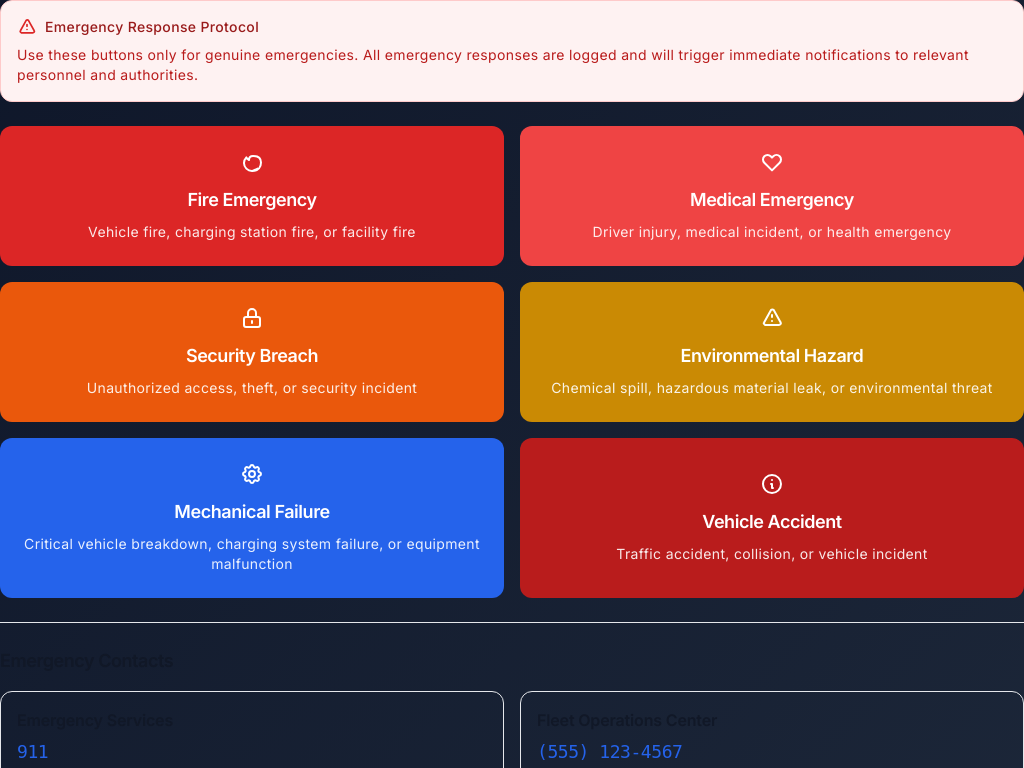
Test: EmergencyResponsePanel › opens confirmation modal when emergency button is clicked
Click the heading "Fire Emergency": (252, 200) [188, 189, 317, 210]
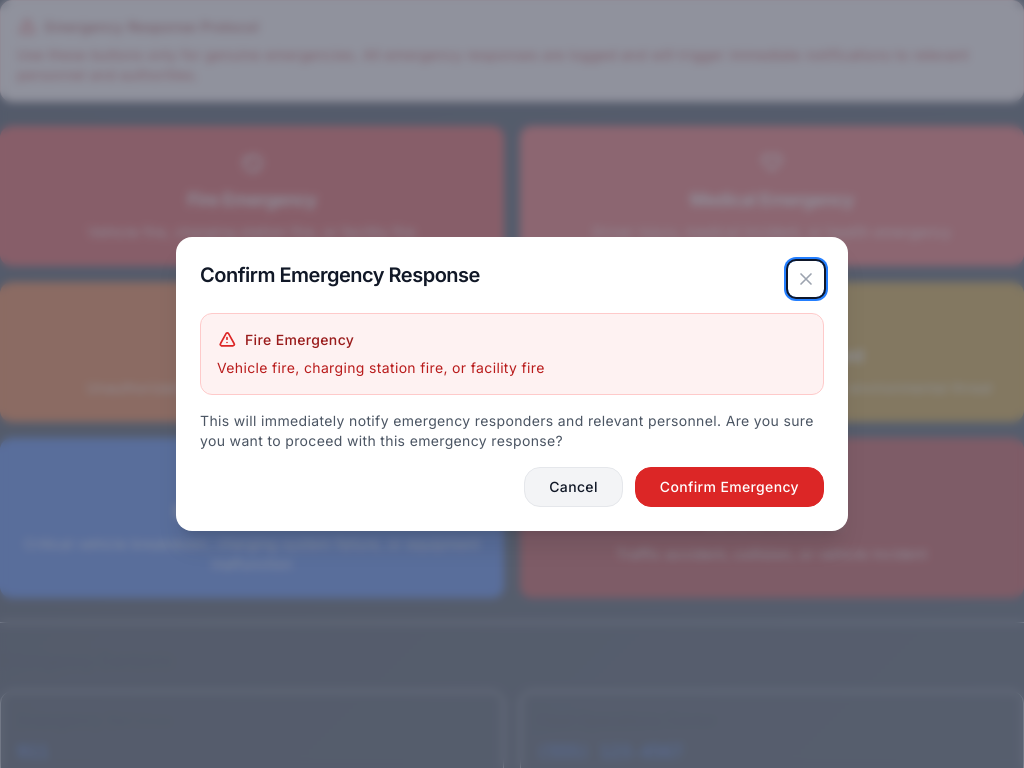
Expected: the heading "Confirm Emergency Response" is shown, [200, 261, 496, 289]
